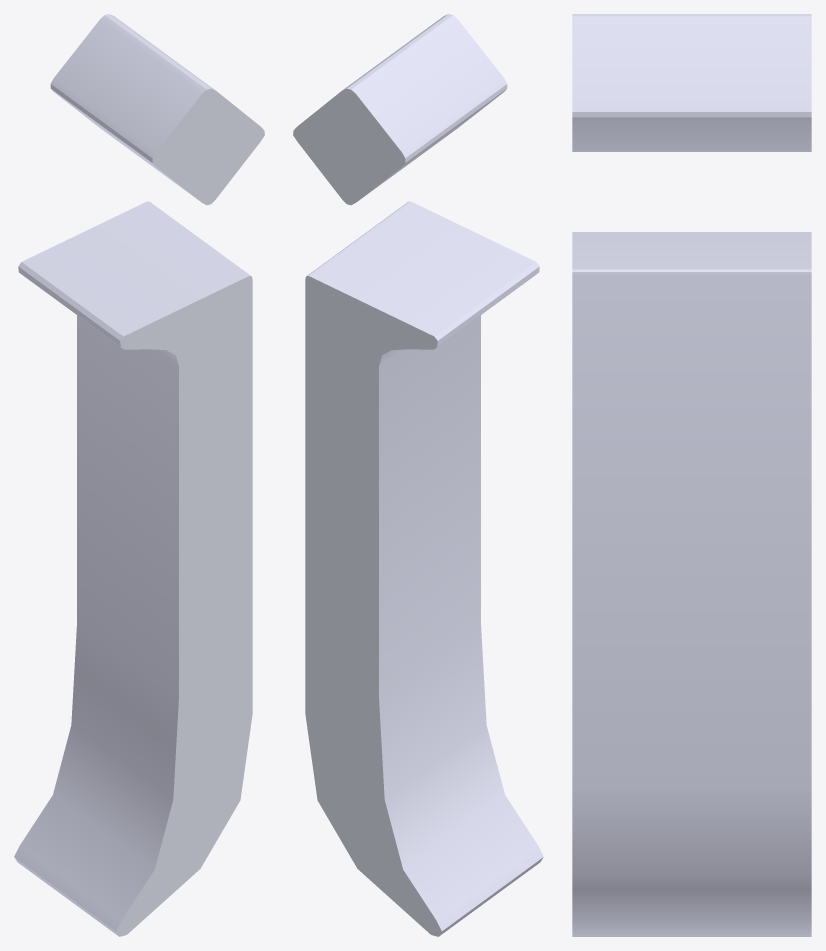
File: J_Soul_Grey.glb
3 views of the same model, side by side, from view 1: azimuth 30°, elevation 25°; view 2: azimuth 150°, elevation 25°; view 3: azimuth 270°, elevation 25° (orthographic). The views are drawn at different scales.
Parts seen in each view (by area): view 1: j_Soul_Grey; view 2: j_Soul_Grey; view 3: j_Soul_Grey.
Part boxes in pixels (x1,y1,x2,y2): j_Soul_Grey: (14,14,264,936); j_Soul_Grey: (293,14,543,936); j_Soul_Grey: (572,14,811,936).
Size of what is drawn, in the model's own units: 0.0379 by 0.2011 by 0.045.
2 materials, 2 textured.
